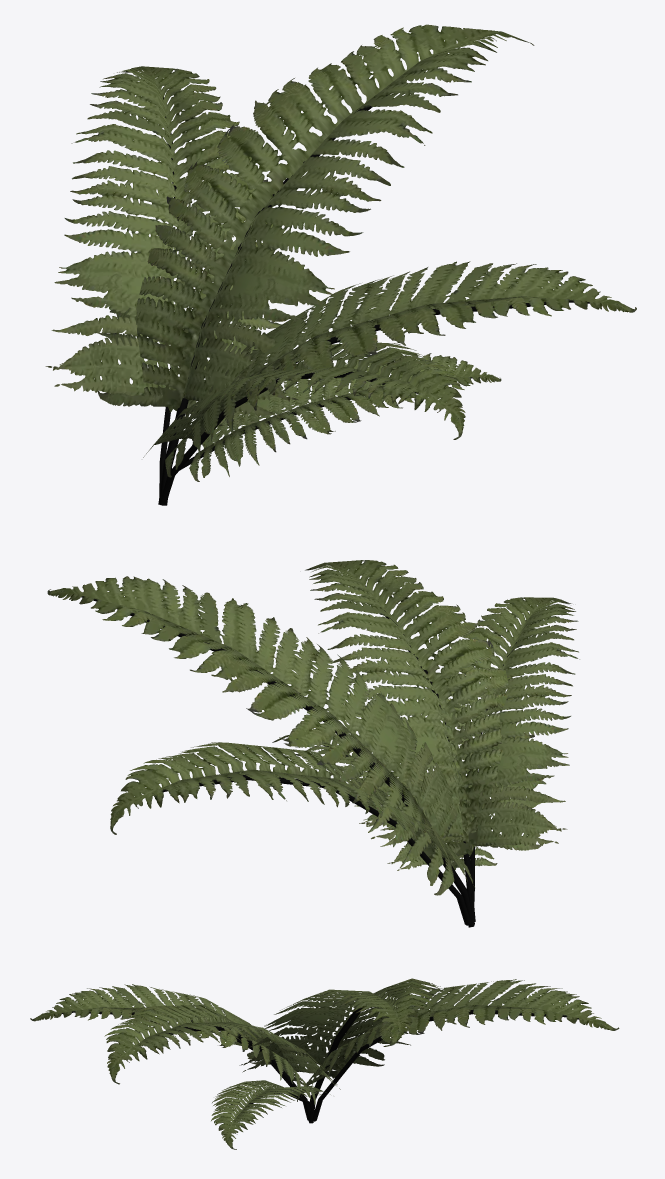
3 views of the same model, one above another, from view 1: azimuth 30°, elevation 25°; view 2: azimuth 150°, elevation 25°; view 3: azimuth 270°, elevation 25° (orthographic). The views are drawn at different scales.
Parts seen in each view (by area): view 1: body0_model0_lod0_mesh0, body0_model0_lod0_mesh1; view 2: body0_model0_lod0_mesh0, body0_model0_lod0_mesh1; view 3: body0_model0_lod0_mesh0, body0_model0_lod0_mesh1.
Boxes of the visible parts, <box> form: body0_model0_lod0_mesh0: <box>45,24,636,481</box>; body0_model0_lod0_mesh1: <box>142,31,617,505</box>; body0_model0_lod0_mesh0: <box>47,560,579,895</box>; body0_model0_lod0_mesh1: <box>61,585,526,927</box>; body0_model0_lod0_mesh0: <box>30,978,619,1149</box>; body0_model0_lod0_mesh1: <box>62,1008,579,1140</box>.
Bounding box in the file's own units: 79.47 × 46.58 × 115.
2 materials, 2 textured.
